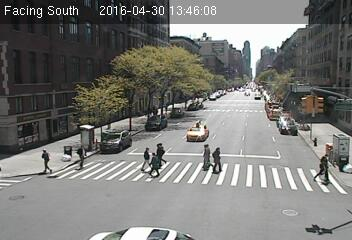neg: (238, 34, 254, 56), (286, 110, 301, 130), (272, 106, 286, 125), (22, 116, 36, 134), (326, 129, 339, 146), (197, 28, 210, 45), (271, 39, 284, 56), (249, 79, 261, 95), (307, 135, 318, 151), (121, 114, 132, 128), (259, 93, 269, 106), (303, 120, 312, 132), (317, 110, 326, 122)
pos: (311, 153, 337, 187), (35, 146, 59, 178), (72, 141, 95, 172), (195, 142, 216, 169), (134, 145, 151, 168), (209, 147, 226, 169), (153, 138, 167, 156), (147, 152, 160, 171)
